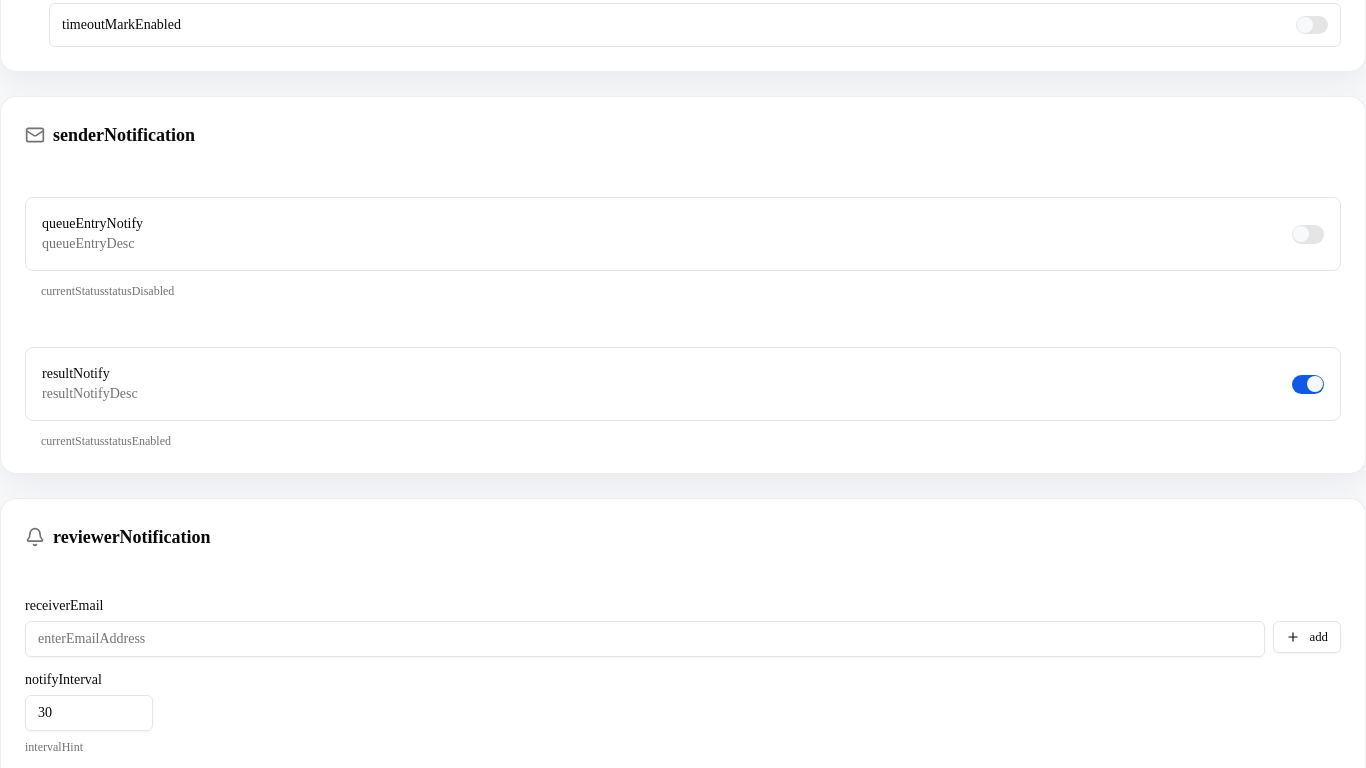
Test case: ReviewSettingsTab current-status copy linked to its switch (task-12) › sender result-notify status text follows the switch state
(page scrolled)
Expected: the text with test id "disposal-settings-sender-result-status" reads "currentStatusstatusEnabled", [41,434,171,448]
Click the switch with test id "disposal-settings-sender-result". click: (1308, 384)
box: [1292,375,1324,394]
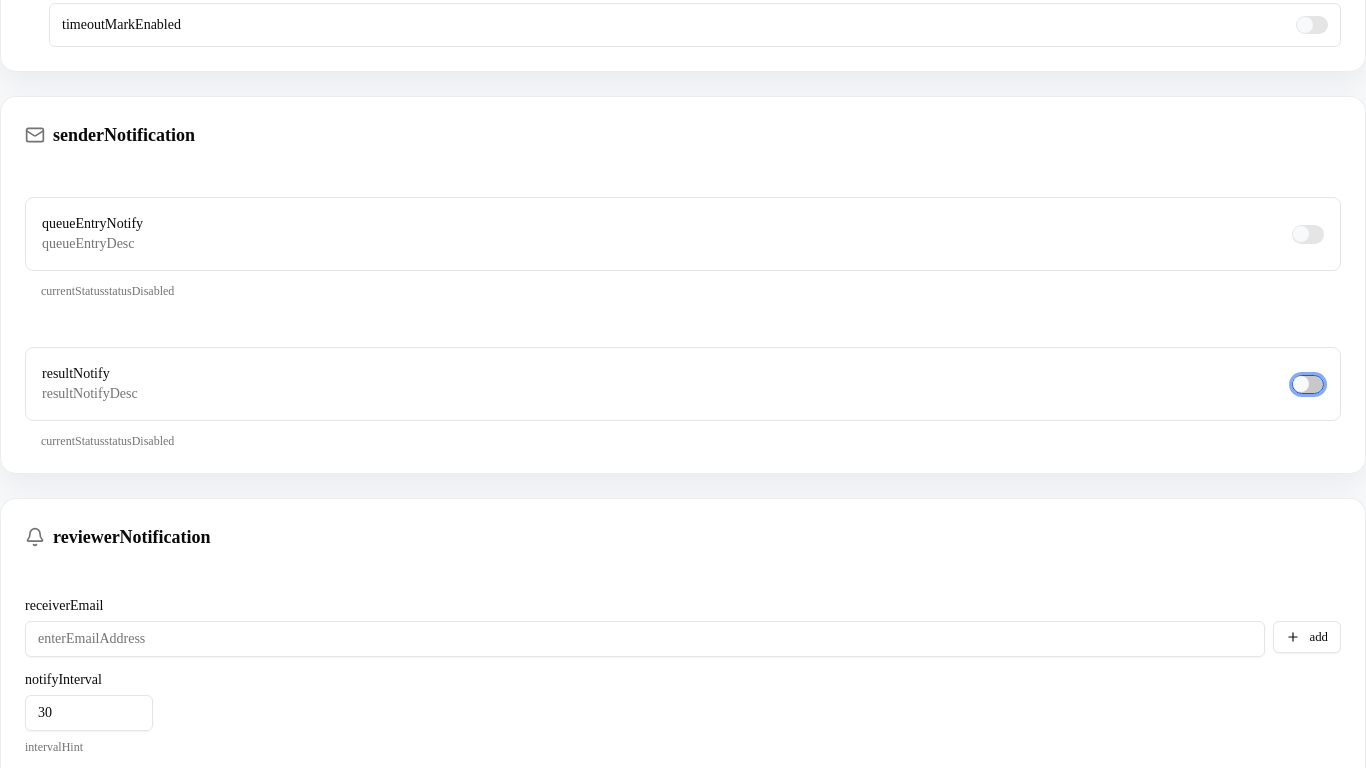
Now the text with test id "disposal-settings-sender-result-status" reads "currentStatusstatusDisabled", box [41,434,174,448]
